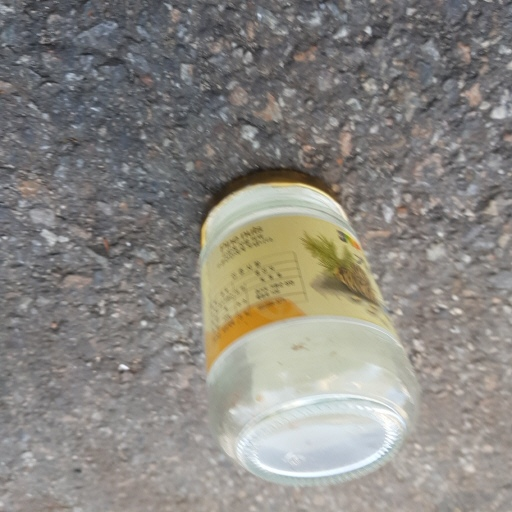Glass_5: (194, 169, 424, 485)
